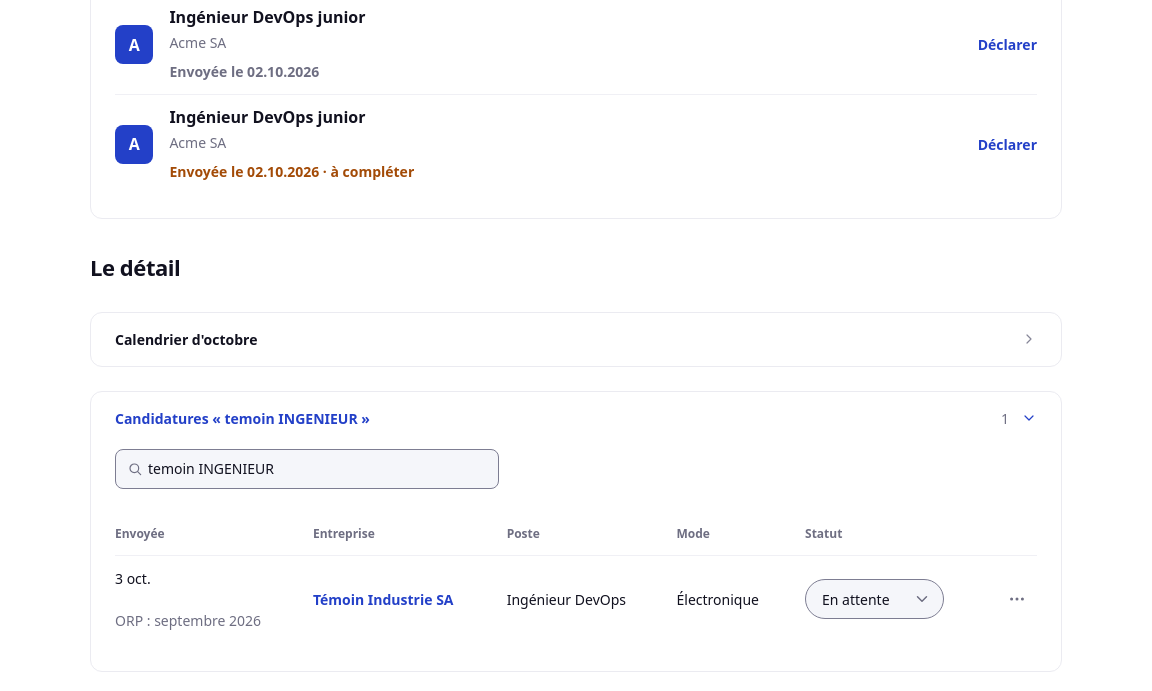
Scenario: Suivi, le filtre par mots (décision de Kevin, 27.10) › ?q= ouvre la liste filtrée, dans tous les mois, sans accents ni casse
(page scrolled)
Expected: the text with class "disclosure-title" reads "Candidatures « temoin INGENIEUR »", [115,409,370,428]
Expected: the element with test id "detail-list" shows "Témoin Industrie SA", [313,589,454,610]
# Effacer les mots : la liste du mois revient, l'adresse aussi.
Clear the 1st search field with test id "suivi-search" at (307, 469), box [115,449,499,489]
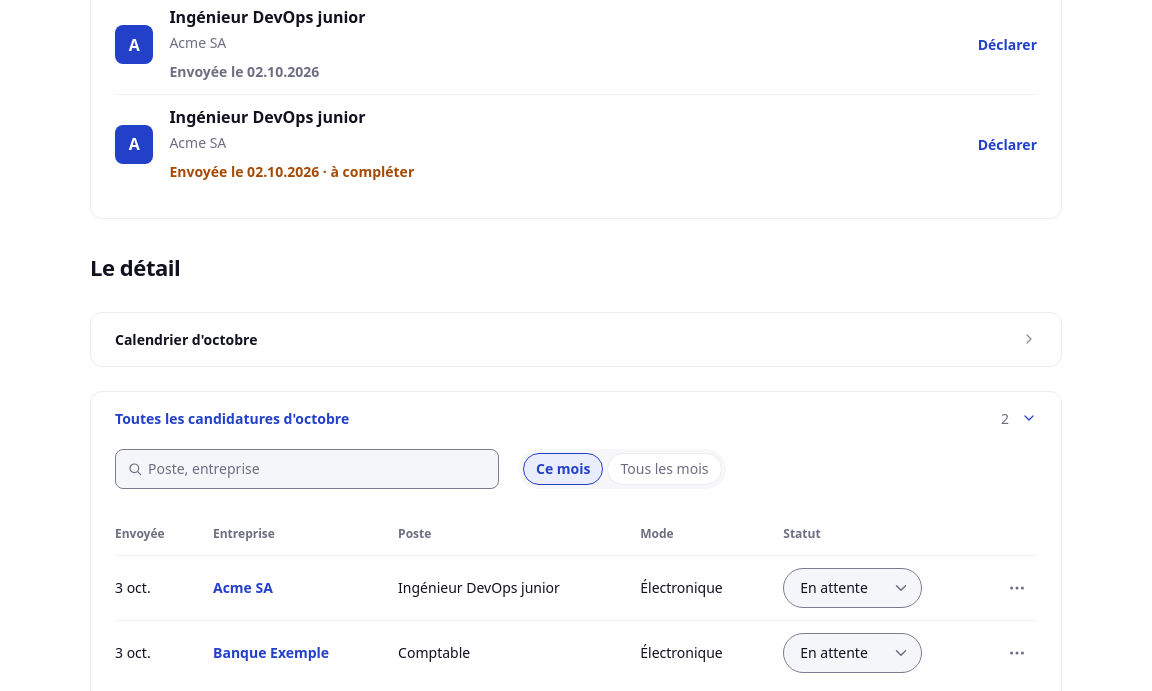
Now the radio button with test id "all-months" showing "Tous les mois" is shown, box [608,453,722,485]
